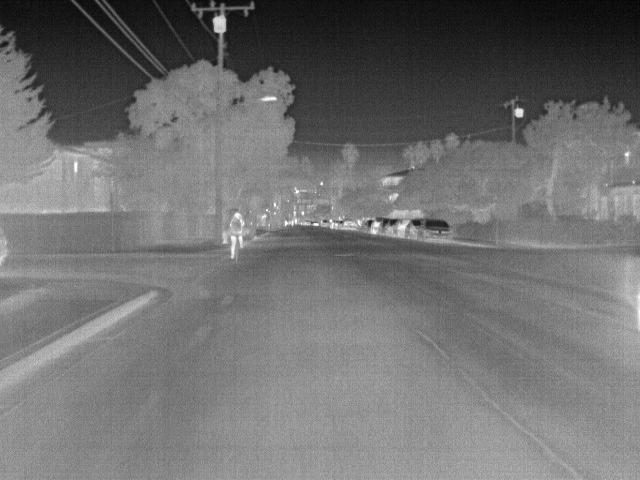car: (420, 219, 452, 242), (395, 219, 411, 238), (406, 220, 423, 237), (379, 218, 395, 236), (369, 218, 387, 234), (340, 218, 359, 232), (359, 220, 376, 234)
person: (229, 207, 247, 258)
